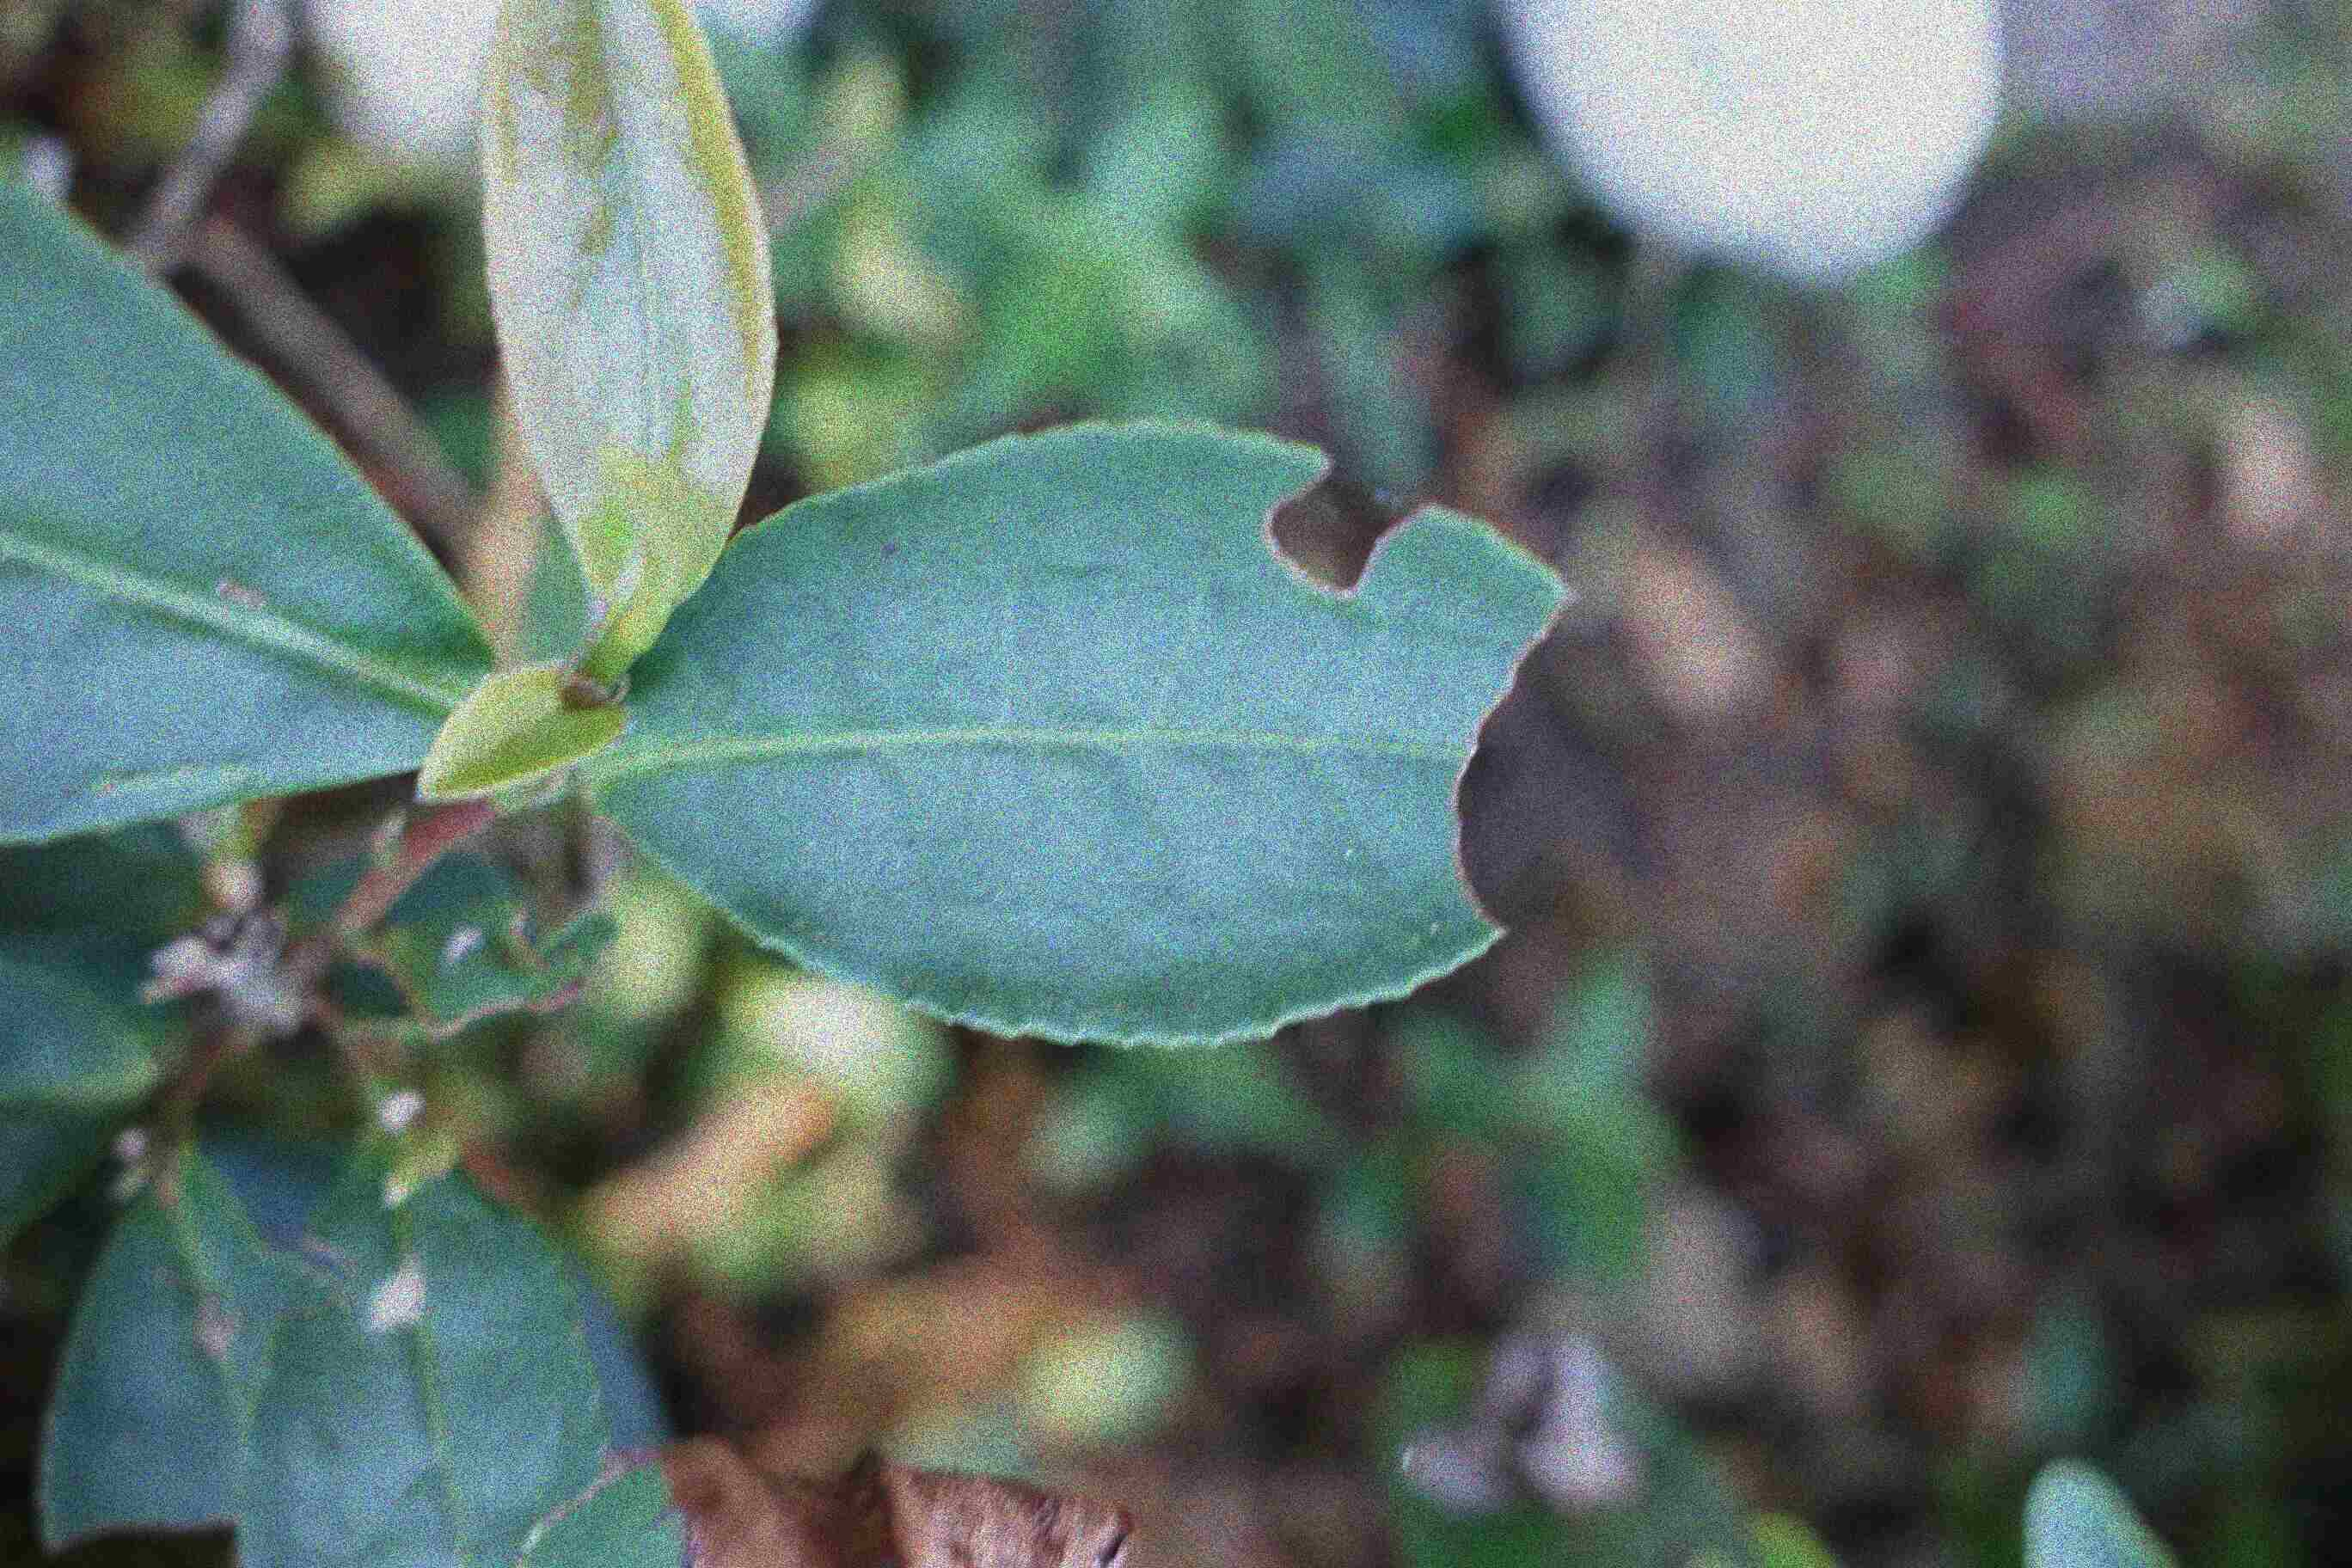chihuo_high: (553, 429, 1577, 1053)
tanju_low: (472, 0, 779, 600)
